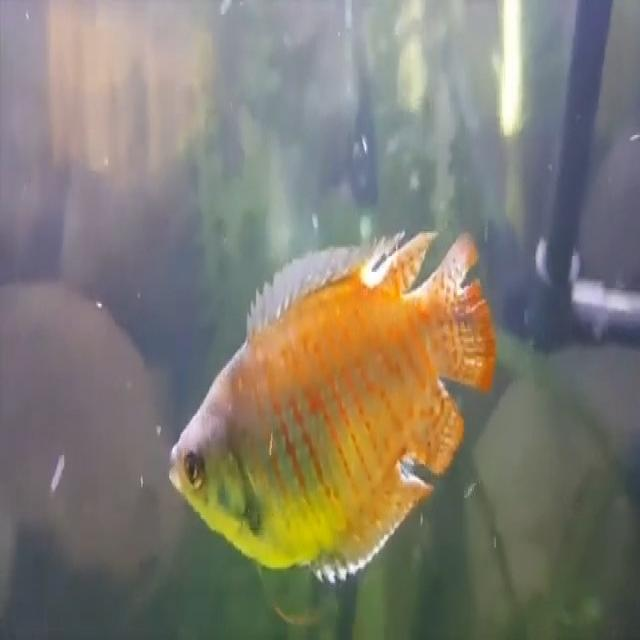fish: (167, 217, 499, 591)
